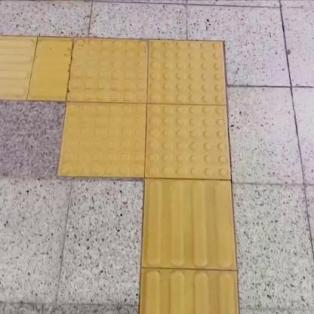Podoctatil: (34, 13, 247, 220), (140, 184, 238, 314)
